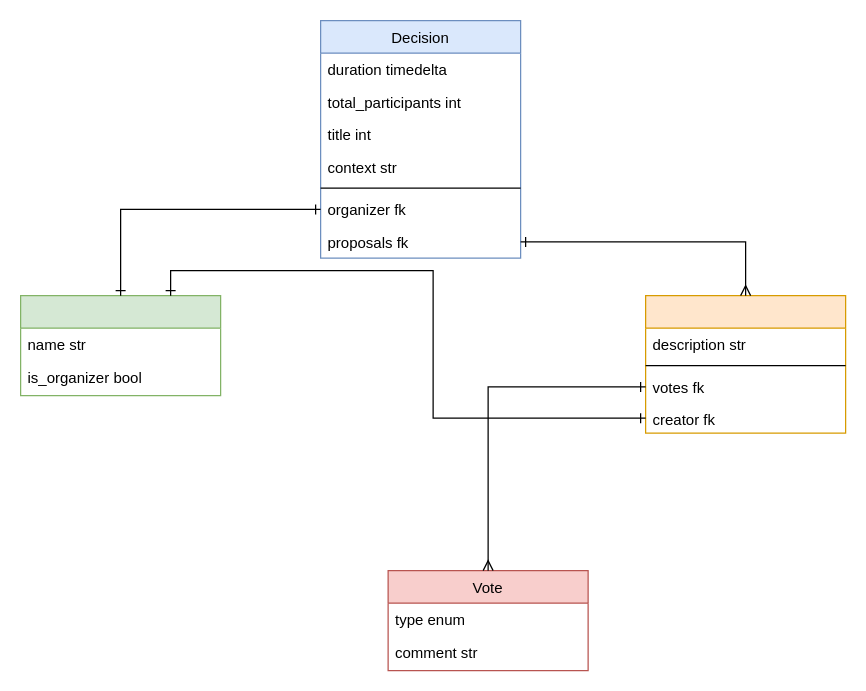
The diagram is 866 pixels wide and 691 high, and some of its shapes have lost their labels. Here are the shapes that lost their labels. From the top down, the box of each, then its label:
(19, 294, 221, 396): User
(644, 294, 846, 433): Proposal
